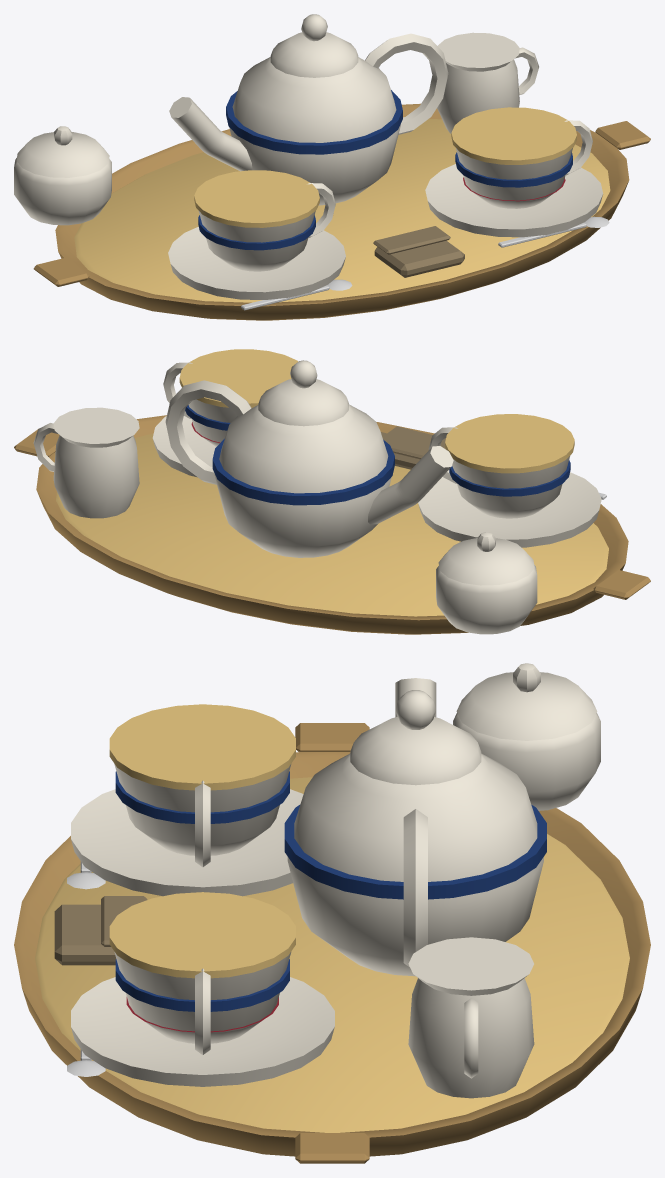
File: tea_set.glb
3 renders of one model, top to bottom at view 1: azimuth 30°, elevation 25°; view 2: azimuth 150°, elevation 25°; view 3: azimuth 270°, elevation 25°, orthographic. The views are drawn at different scales.
Visible parts, largest first — view 1: tea_body, IA_cup_b, IA_cup_a; view 2: tea_body, IA_cup_a, IA_cup_b; view 3: tea_body, IA_cup_b, IA_cup_a.
Part boxes in pixels (left/top/right/bottom): tea_body: left=14, top=14, right=650, bottom=320; IA_cup_b: left=425, top=107, right=603, bottom=237; IA_cup_a: left=168, top=170, right=345, bottom=299; tea_body: left=14, top=360, right=650, bottom=634; IA_cup_a: left=418, top=414, right=601, bottom=547; IA_cup_b: left=152, top=349, right=297, bottom=477; tea_body: left=14, top=663, right=650, bottom=1163; IA_cup_b: left=71, top=892, right=334, bottom=1086; IA_cup_a: left=71, top=704, right=303, bottom=896.
Bounding box in the file's own units: 0.556 × 0.171 × 0.344.
